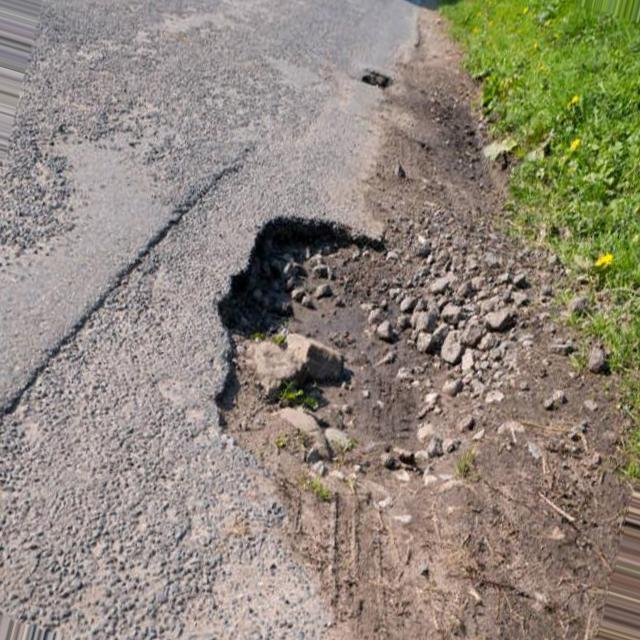Pinggir: (209, 208, 429, 581)
